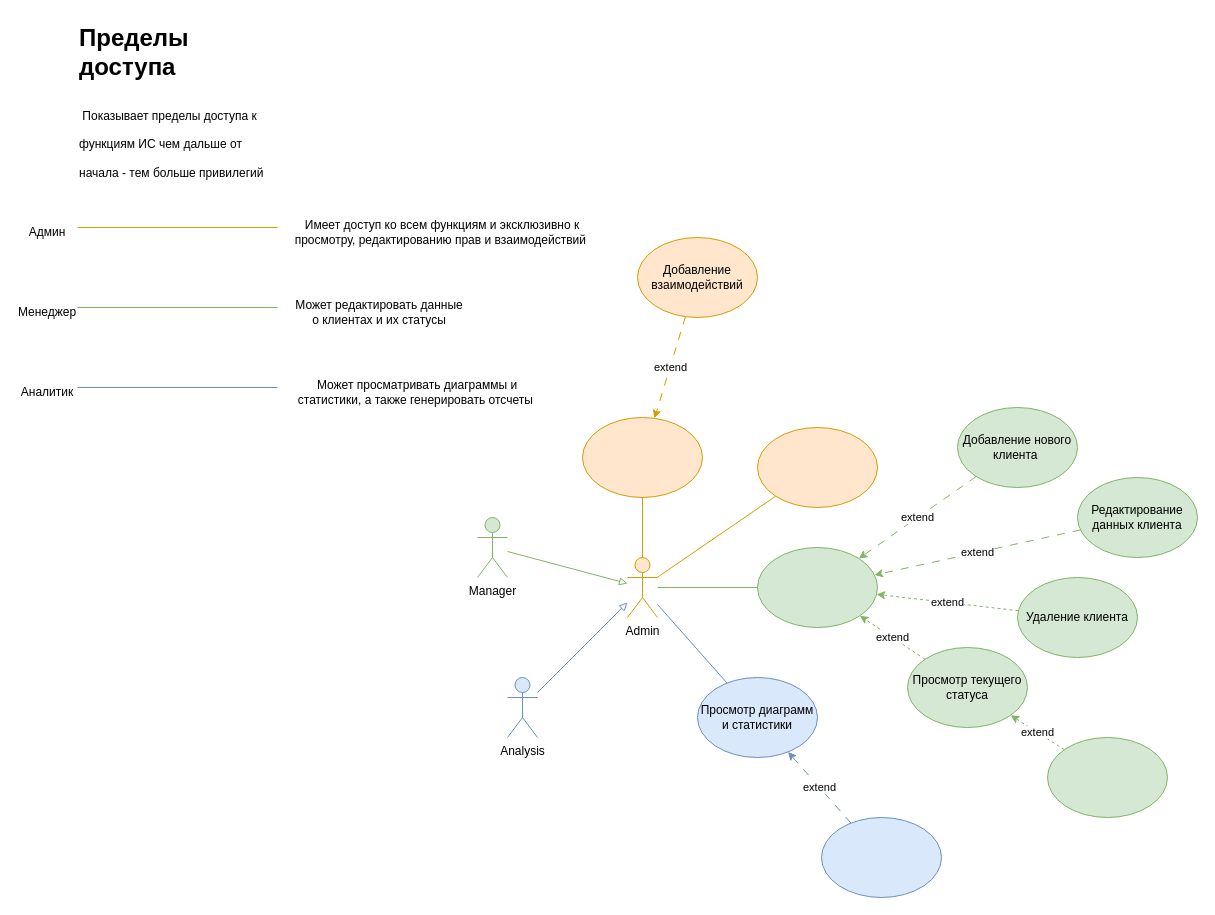
The diagram is 1215 pixels wide and 915 high, and some of its shapes have lost their labels. The box of each missing label's shape, as (x1, y1, x2, y2) in pixels:
Генерация отсчетов: (820, 816, 942, 898)
Обновление статуса клиента: (1046, 736, 1168, 818)
Просмотр историй взаимодействия: (756, 426, 878, 508)
Просмотр списка клиентов: (756, 546, 878, 628)
Редактирование взаимодействий: (582, 416, 702, 498)
